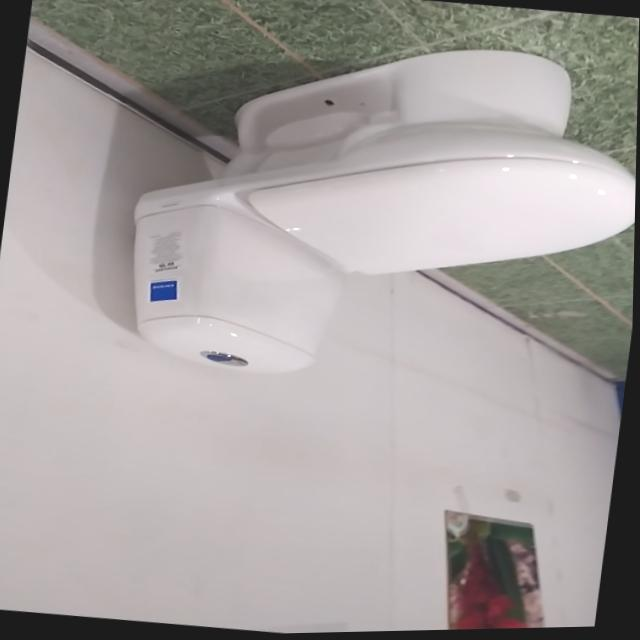toilet: (114, 13, 640, 416)
